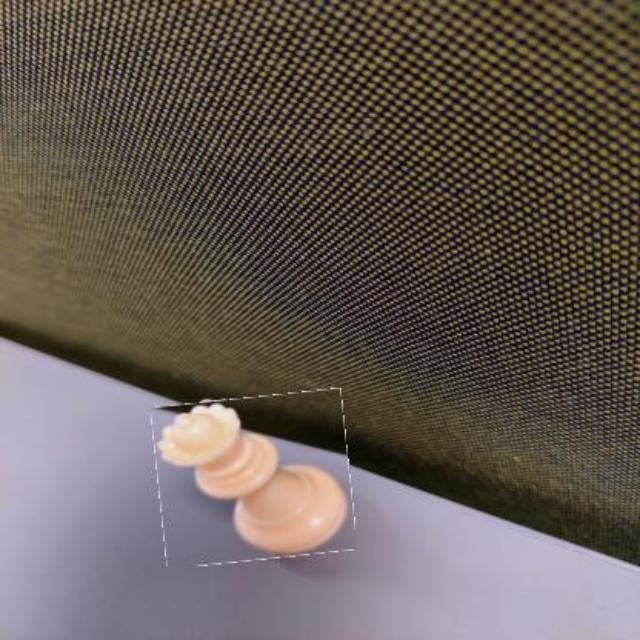white-queen: (155, 393, 353, 563)
